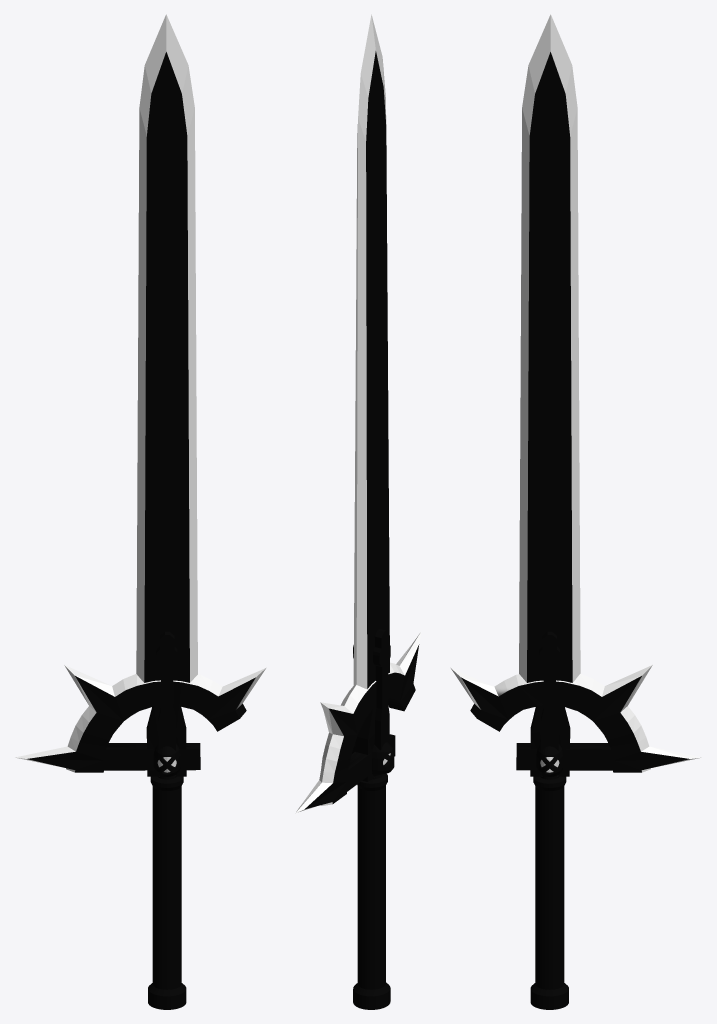
The model's file is elucidator.obj.
3 renders of one model, left to right at view 1: azimuth 90°, elevation 25°; view 2: azimuth 150°, elevation 25°; view 3: azimuth 270°, elevation 25°, orthographic.
Visible parts, largest first — view 1: 立方体_立方体.001; view 2: 立方体_立方体.001; view 3: 立方体_立方体.001.
Part boxes in pixels (x1,y1,x2,y2): 立方体_立方体.001: (15,14,265,1009); 立方体_立方体.001: (296,14,421,1009); 立方体_立方体.001: (451,14,701,1009).
Size of the model in its own units: 0.085 by 1.86 by 0.4309.
